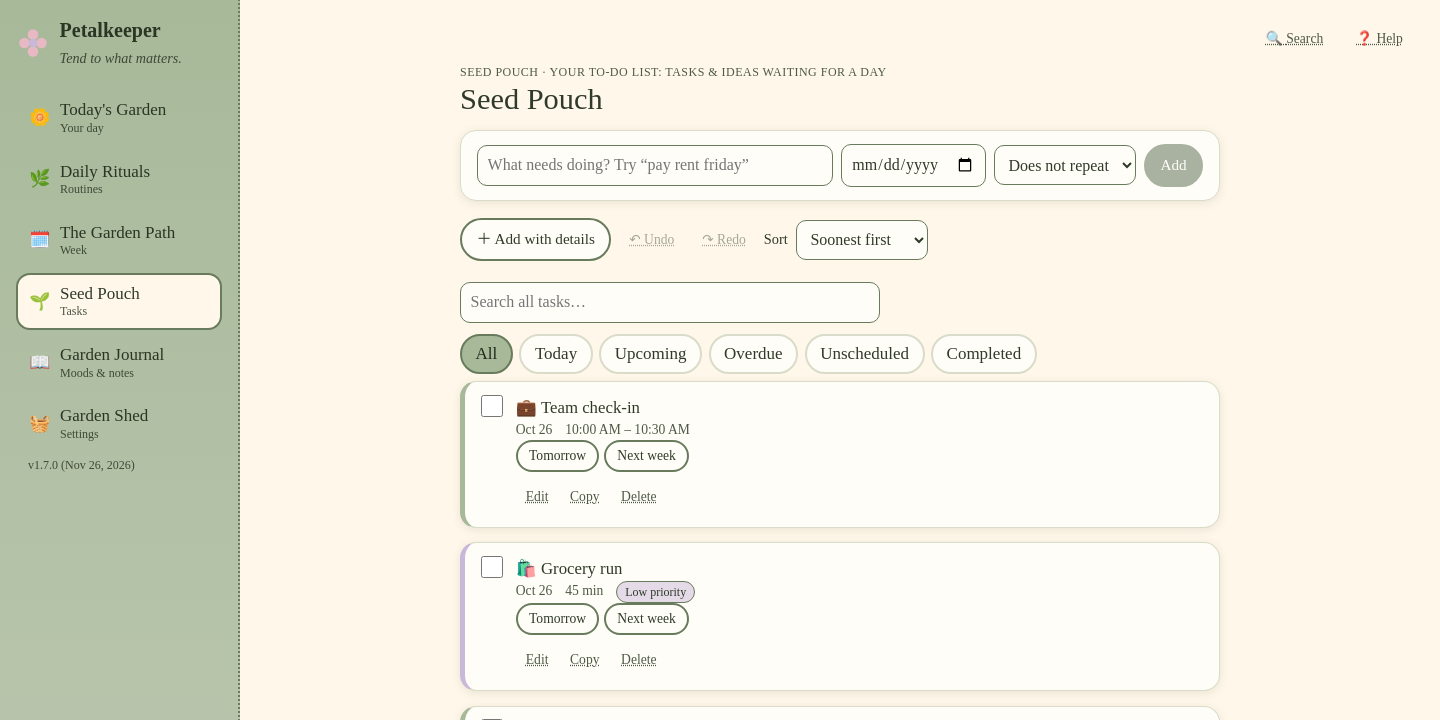
Test case: Seed Pouch as a to-do list › a picked day wins over words in the text, and a repeat can be chosen
This screenshot has width=1440, height=720.
Type "pay rent friday" into the field with placeholder "What needs doing? Try “pay rent friday”" at (655, 166), box [477,145,833,186]
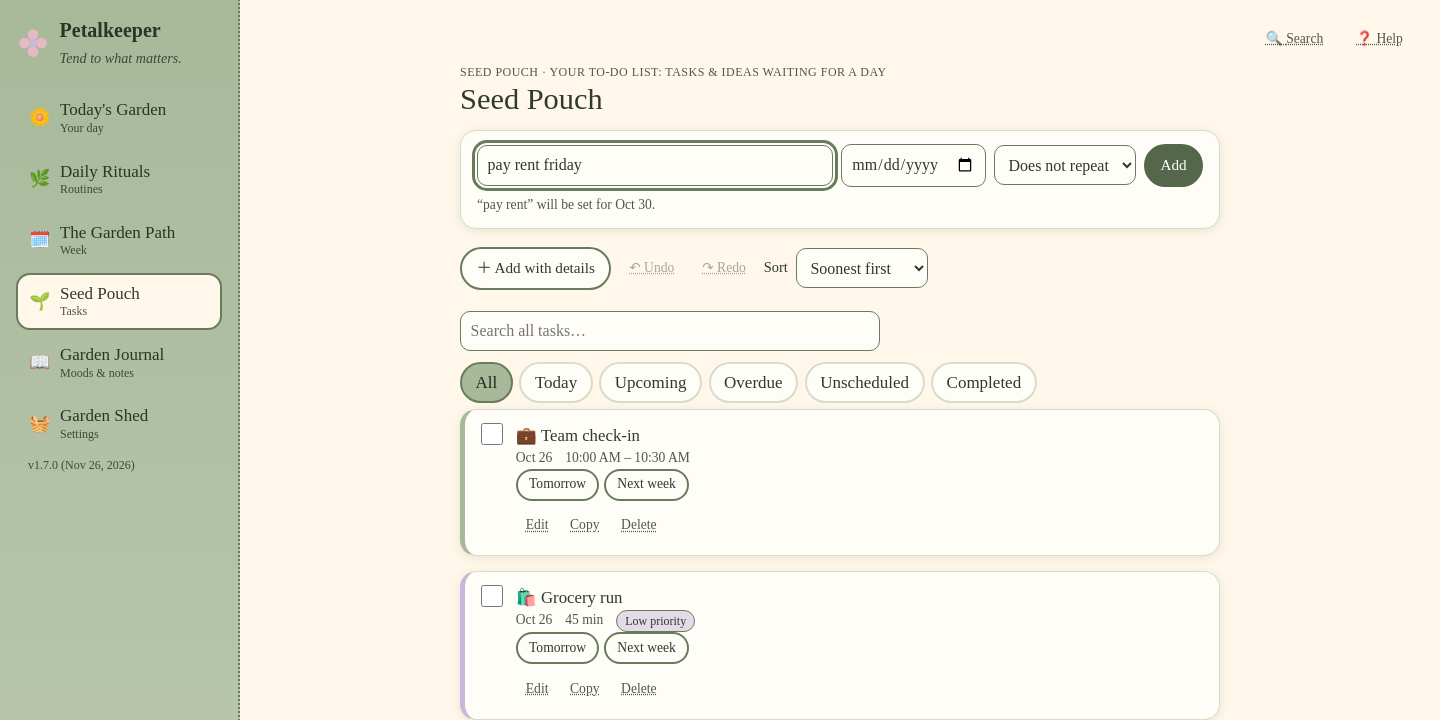
Type "2030-01-15" into the date field named "Day (optional)" at (913, 166), box [841,144,986,187]
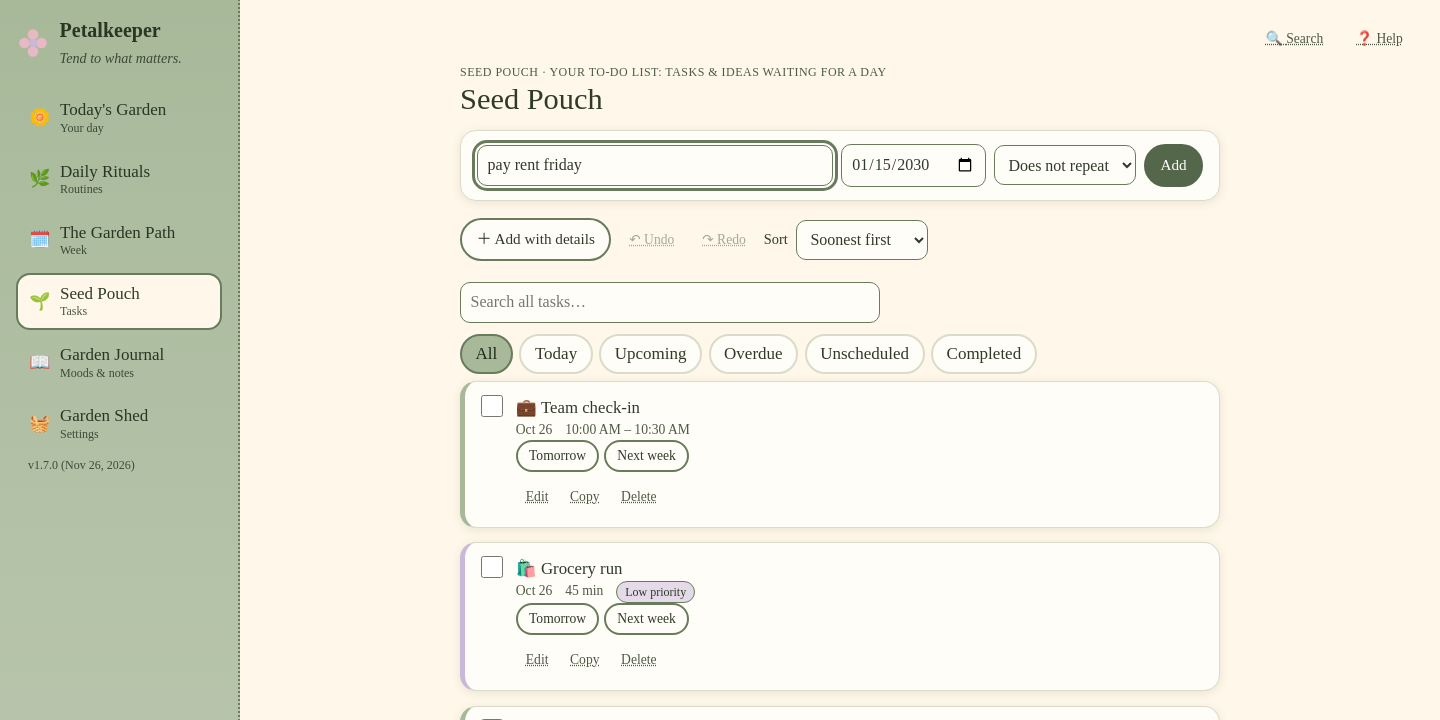
Select "Every month" in the dropdown named "Repeat" at (1065, 166), box [994,146,1136,186]
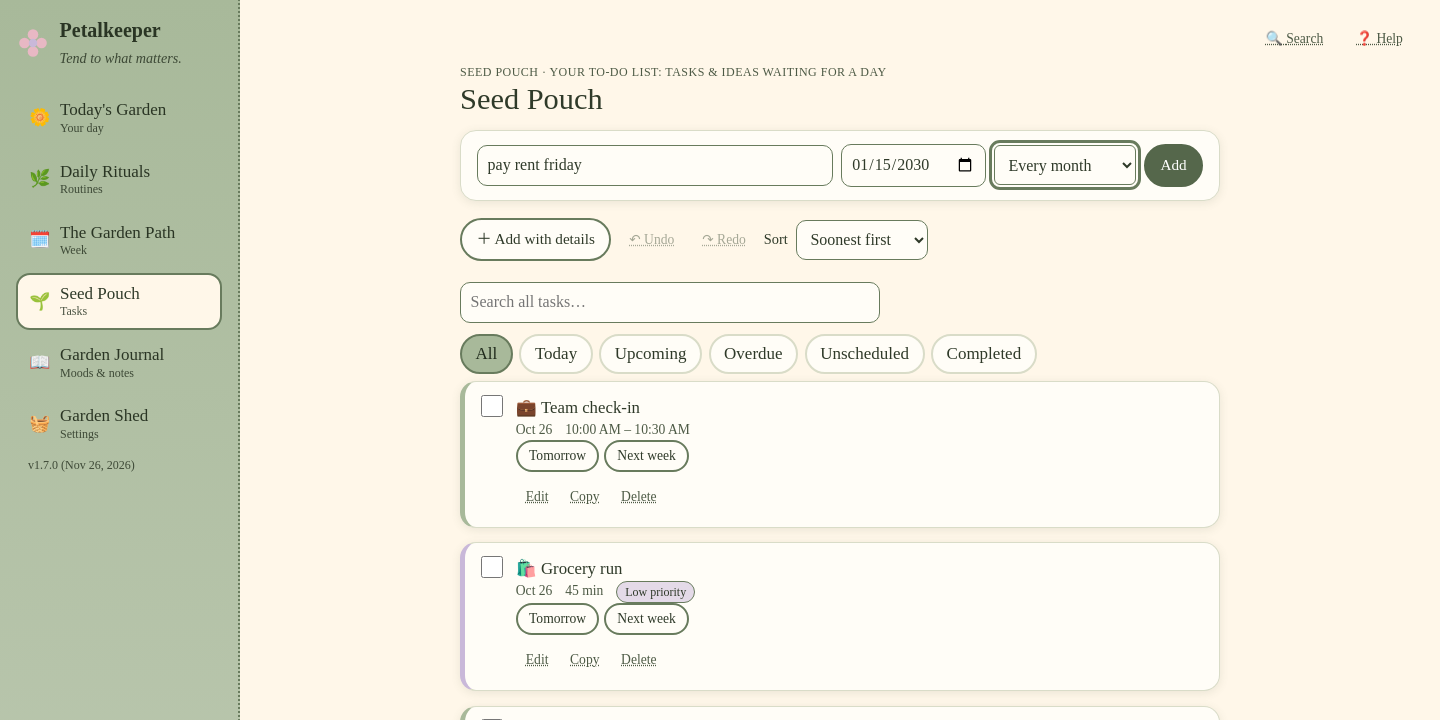
Click the button "Add" at (1174, 166), box [1144,144,1203,187]
(page scrolled)
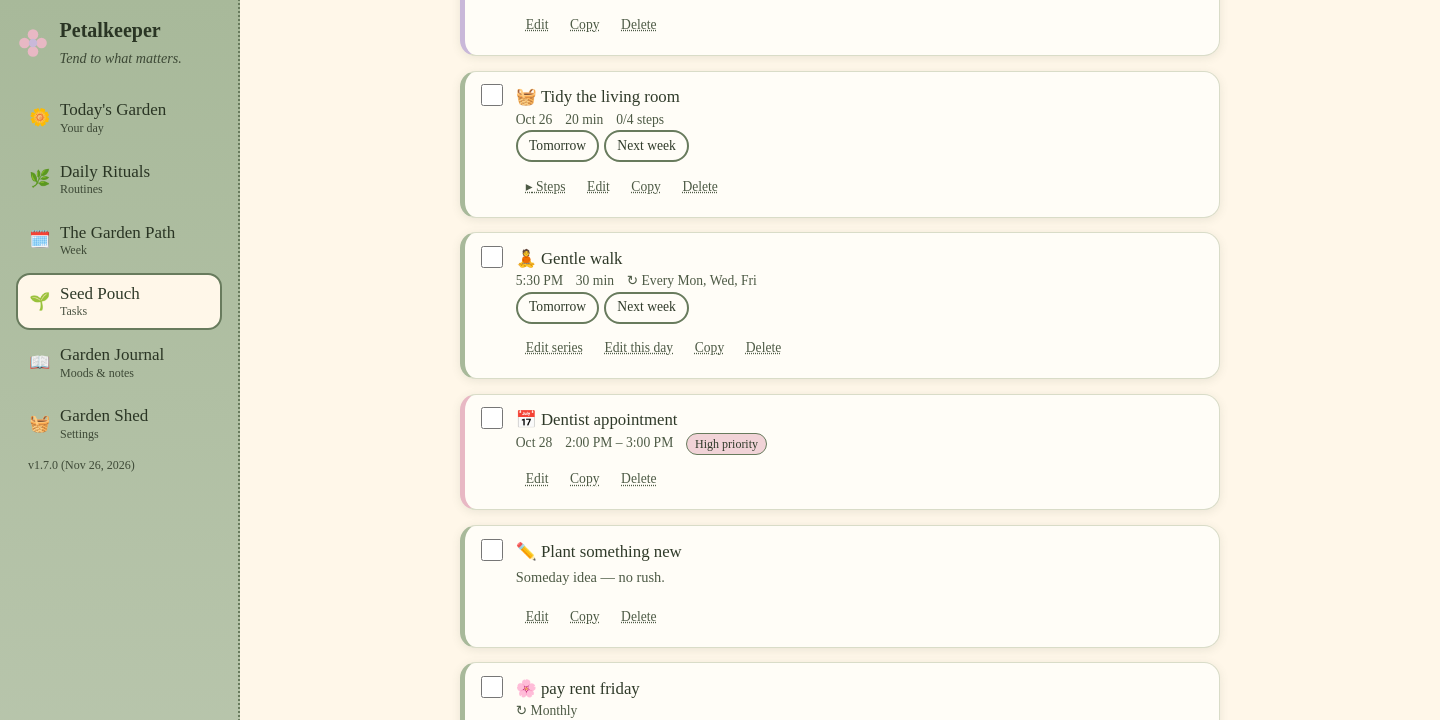
Result: the button "pay rent friday" is shown at [541,676,640,701]
